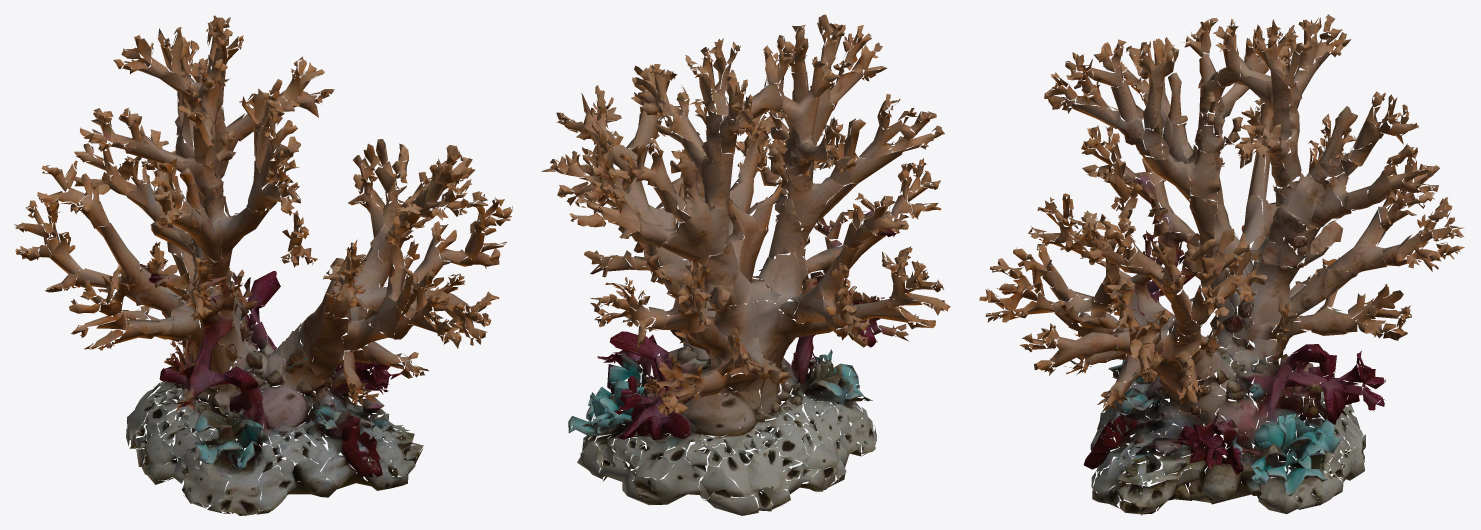
The model's file is abyssal_coral_outcrop.glb.
The picture shows the model from 3 angles, left to right: view 1: azimuth 30°, elevation 25°; view 2: azimuth 150°, elevation 25°; view 3: azimuth 270°, elevation 25°; orthographic projection. The views are drawn at different scales.
Visible parts, largest first — view 1: tripo_node_49e1e35f-92ae-46a3-9f9d-cb71c0f1e62f; view 2: tripo_node_49e1e35f-92ae-46a3-9f9d-cb71c0f1e62f; view 3: tripo_node_49e1e35f-92ae-46a3-9f9d-cb71c0f1e62f.
Part boxes in pixels (left/top/right/bottom): tripo_node_49e1e35f-92ae-46a3-9f9d-cb71c0f1e62f: left=14, top=15, right=512, bottom=515; tripo_node_49e1e35f-92ae-46a3-9f9d-cb71c0f1e62f: left=541, top=14, right=950, bottom=515; tripo_node_49e1e35f-92ae-46a3-9f9d-cb71c0f1e62f: left=979, top=14, right=1464, bottom=515.
Bounding box in the file's own units: 2.56 × 2.6 × 2.63.
Materials: 1 (1 with a texture image).
